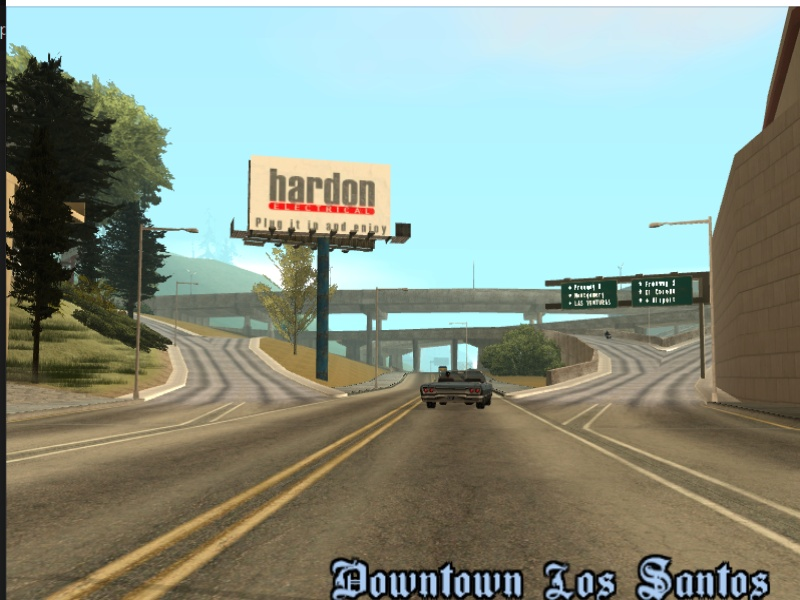pole: (313, 238, 338, 388), (705, 219, 723, 406), (133, 220, 148, 402), (694, 296, 708, 378), (172, 277, 181, 345)
vehicle: (421, 366, 495, 412)
